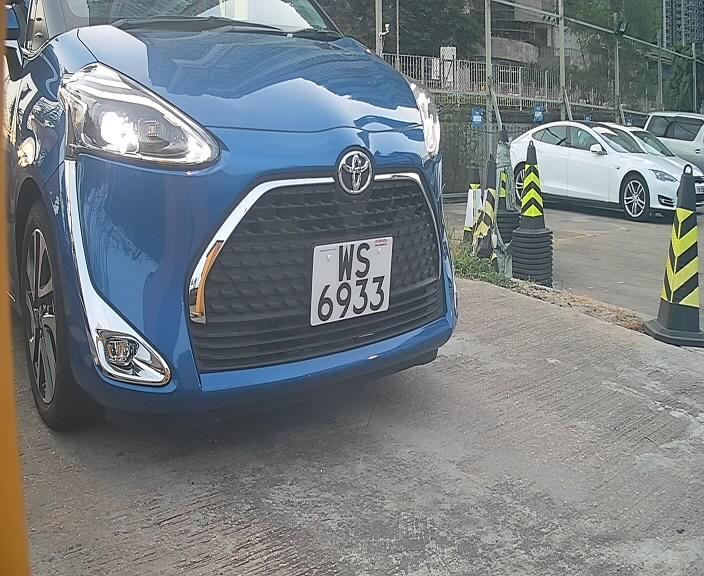License Plate: (305, 227, 400, 335)
